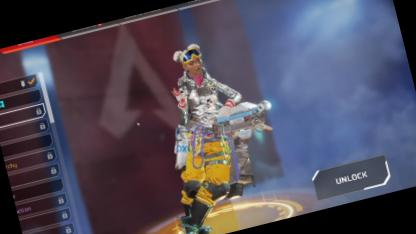Target: (148, 38, 242, 194)
